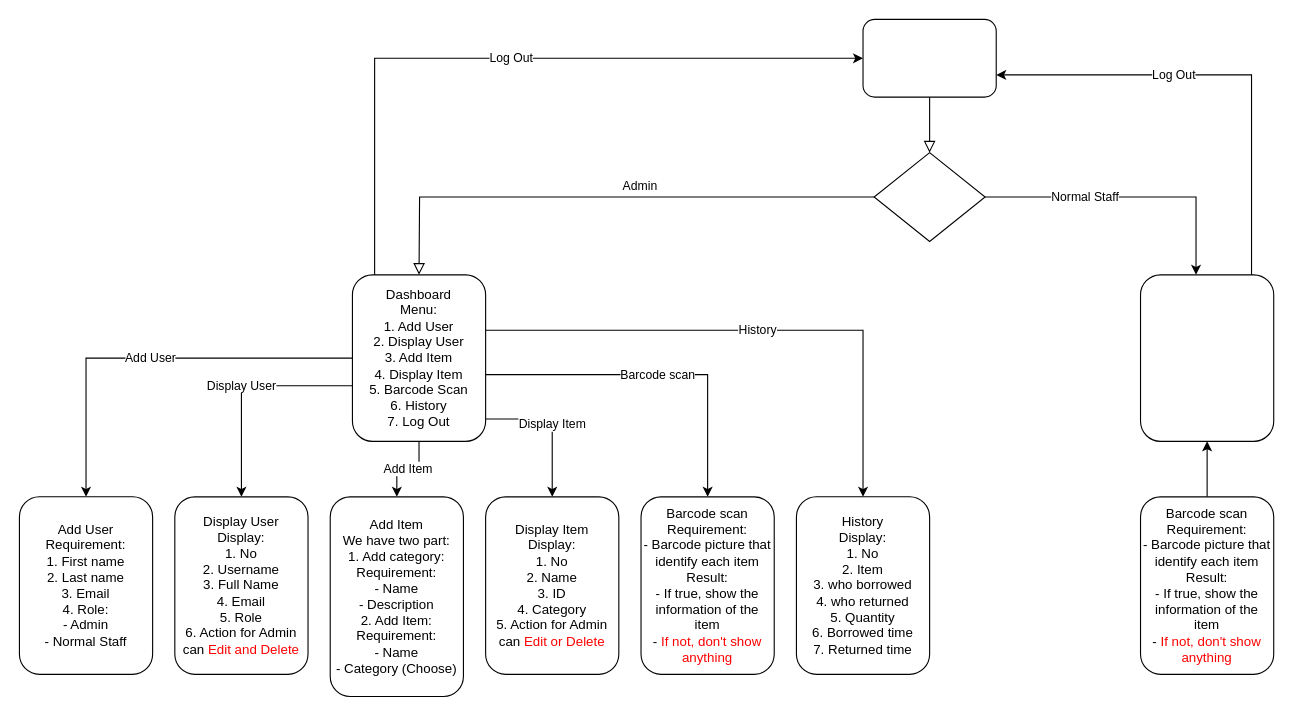
Image size: 1293x716. Some labels were removed from this diagram. Each missing label, with the box of its shape:
Dashboard Menu: 1. Barcode Scan 2. Log Out: (1139, 274, 1274, 441)
Login Requirement: 1. Username 2. Password: (862, 18, 996, 97)
User Check: (873, 152, 985, 241)
